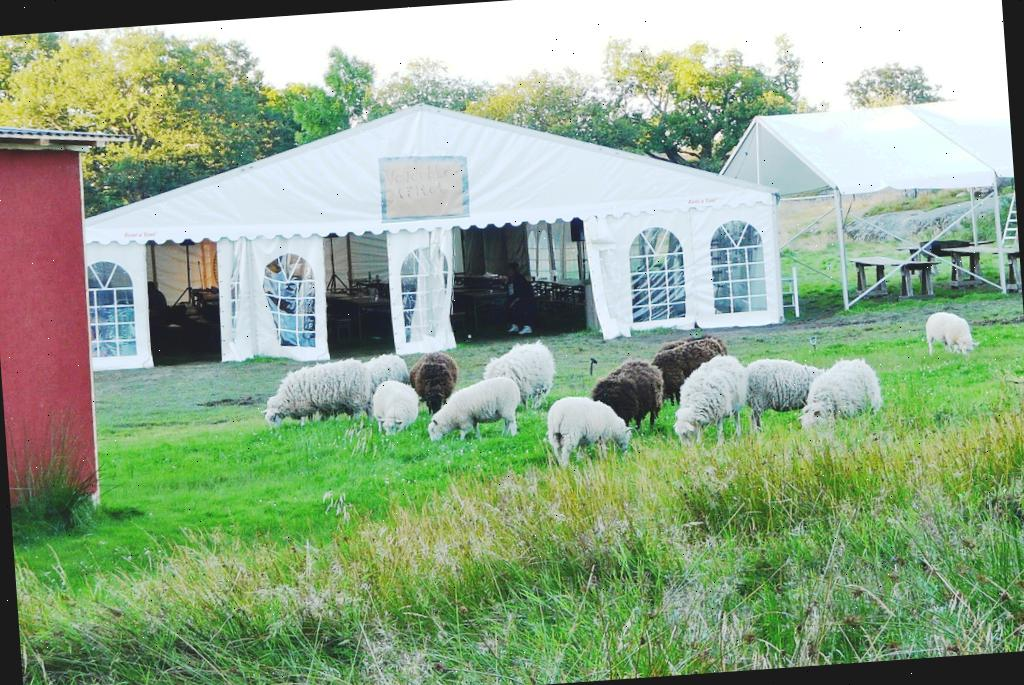Sheep: (416, 370, 542, 448), (250, 360, 378, 432), (662, 348, 754, 444), (542, 386, 636, 477), (574, 352, 672, 436), (733, 347, 830, 428), (794, 351, 892, 431), (644, 334, 736, 412), (475, 336, 562, 413), (408, 346, 468, 418), (346, 345, 417, 404), (368, 374, 425, 442), (924, 311, 982, 355)
